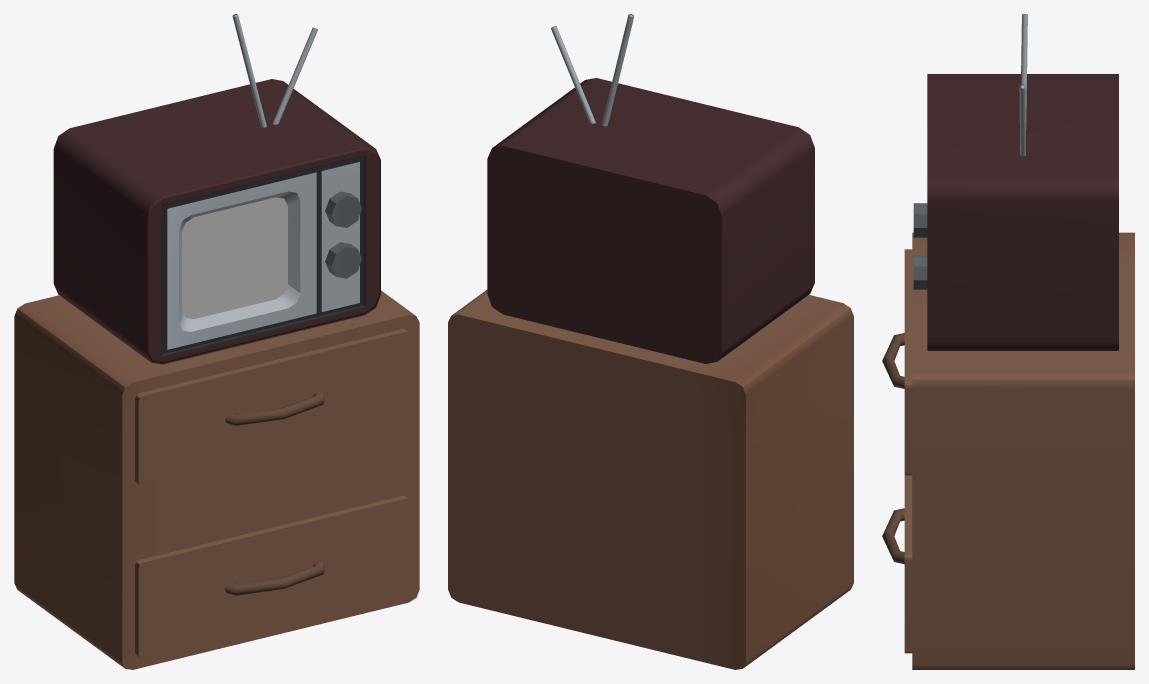
Rendered from mobile con tv.fbx.
3 views of the same model, side by side, from view 1: azimuth 30°, elevation 25°; view 2: azimuth 150°, elevation 25°; view 3: azimuth 270°, elevation 25° (orthographic). The views are drawn at different scales.
Visible parts, largest first — view 1: TV_Mobiletto; view 2: TV_Mobiletto; view 3: TV_Mobiletto.
Part boxes in pixels (bbox=[...]): TV_Mobiletto: bbox=[14, 14, 419, 669]; TV_Mobiletto: bbox=[448, 14, 853, 669]; TV_Mobiletto: bbox=[882, 14, 1134, 669].
Size of the model in its own units: 1.74 by 3.22 by 1.24.
